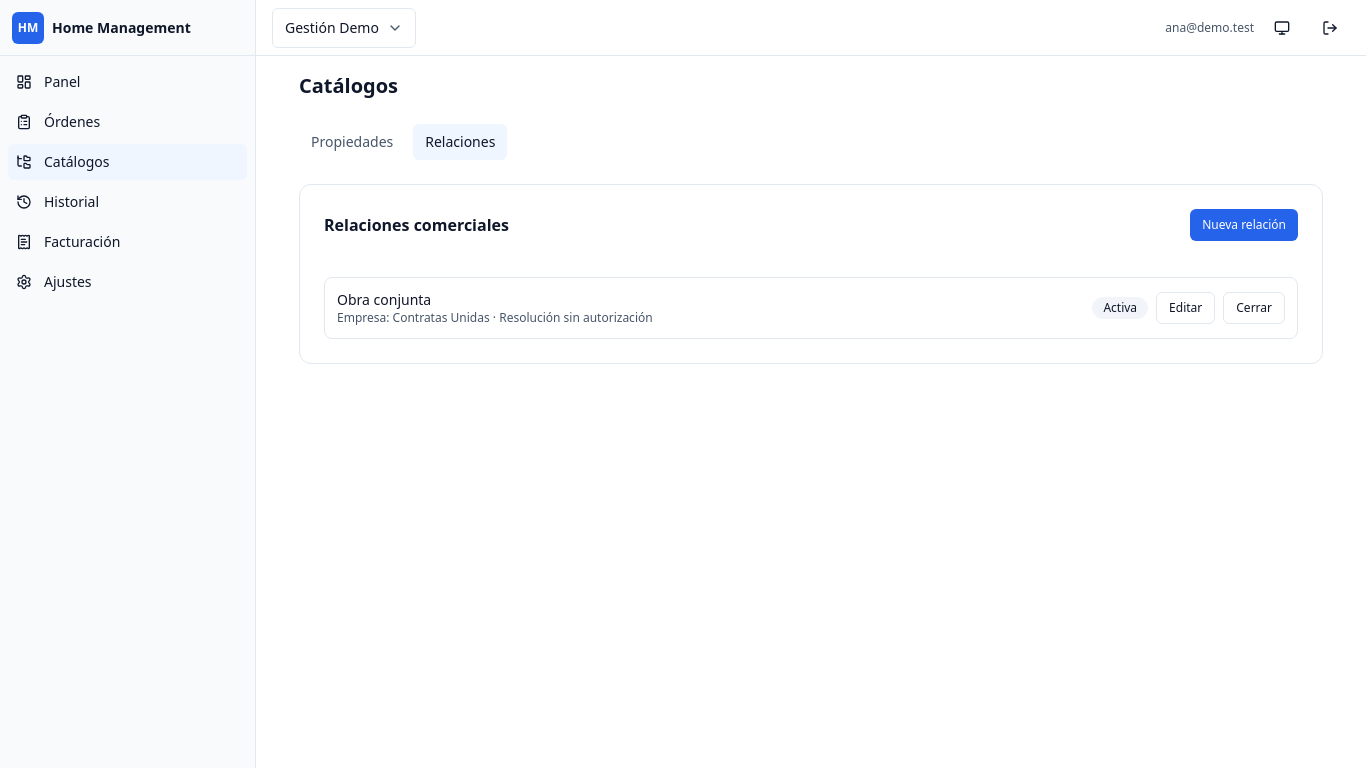
Test: commercial relations (spec F3 §2.1/§2.4, AC-F3.1/AC-F3.9) › validates the manual company UUID and the emergency amount (AC-F3.9)
The image size is (1366, 768).
Click the button "Nueva relación" at (1244, 225), box [1190, 209, 1298, 241]
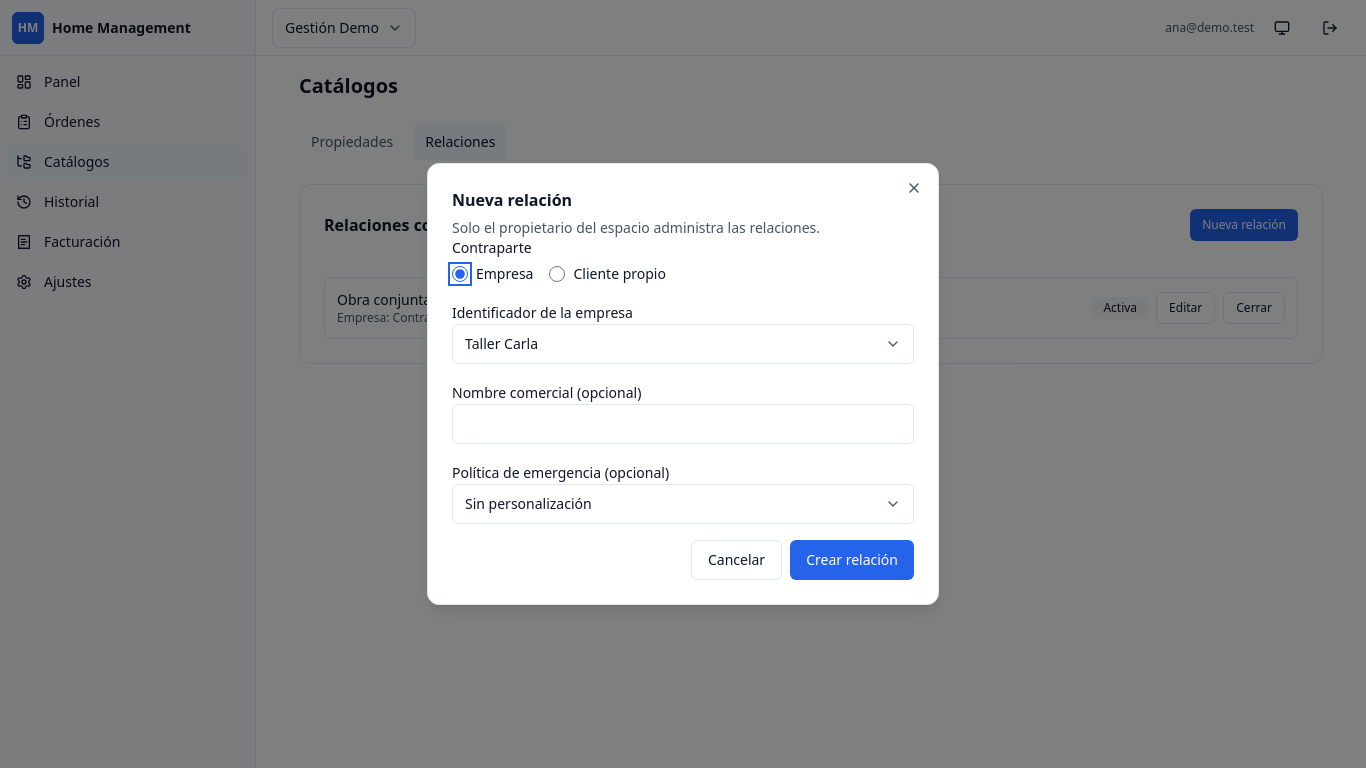
Note: «Elegir otro espacio propio…» reveals the manual UUID input.
Click the dropdown named "Identificador de la empresa" at (502, 344), box [452, 324, 914, 364]
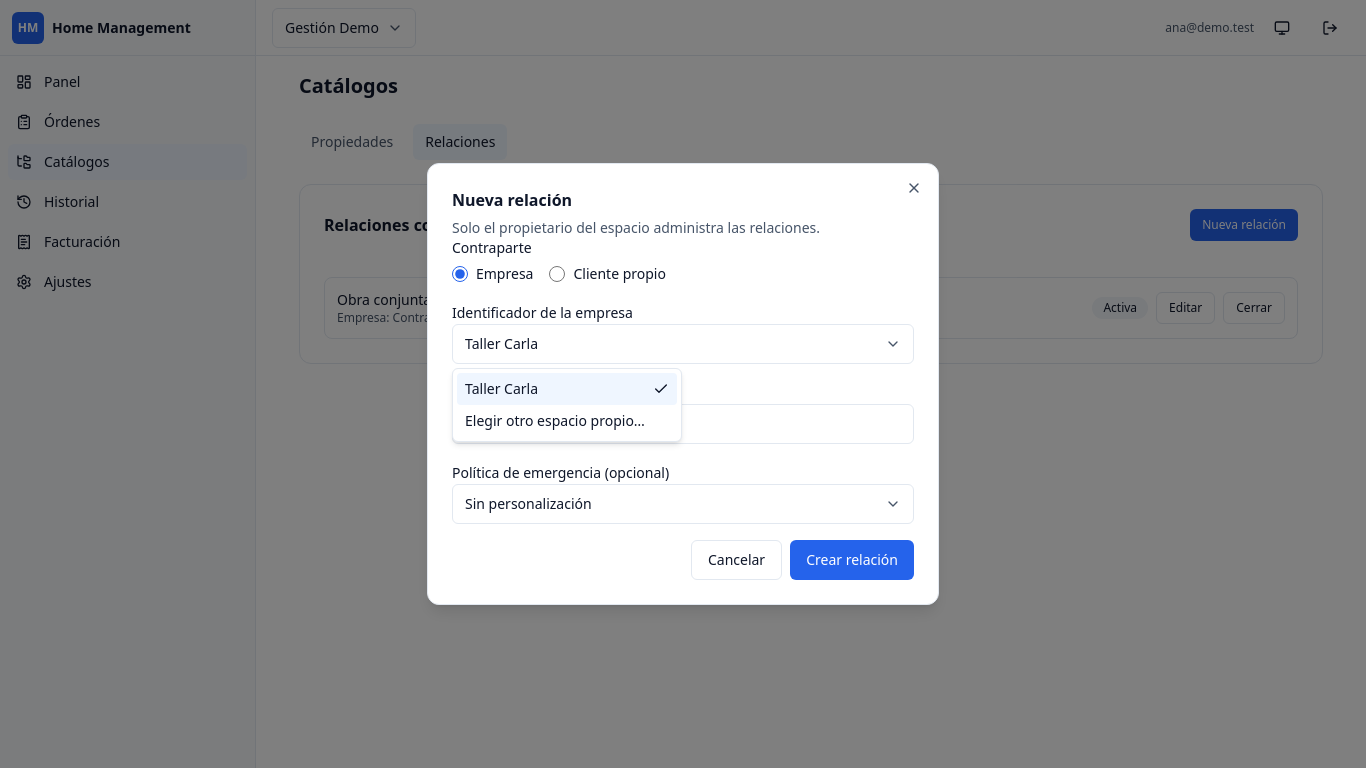
Click the option "Elegir otro espacio propio…" at (555, 420), box [465, 411, 645, 430]
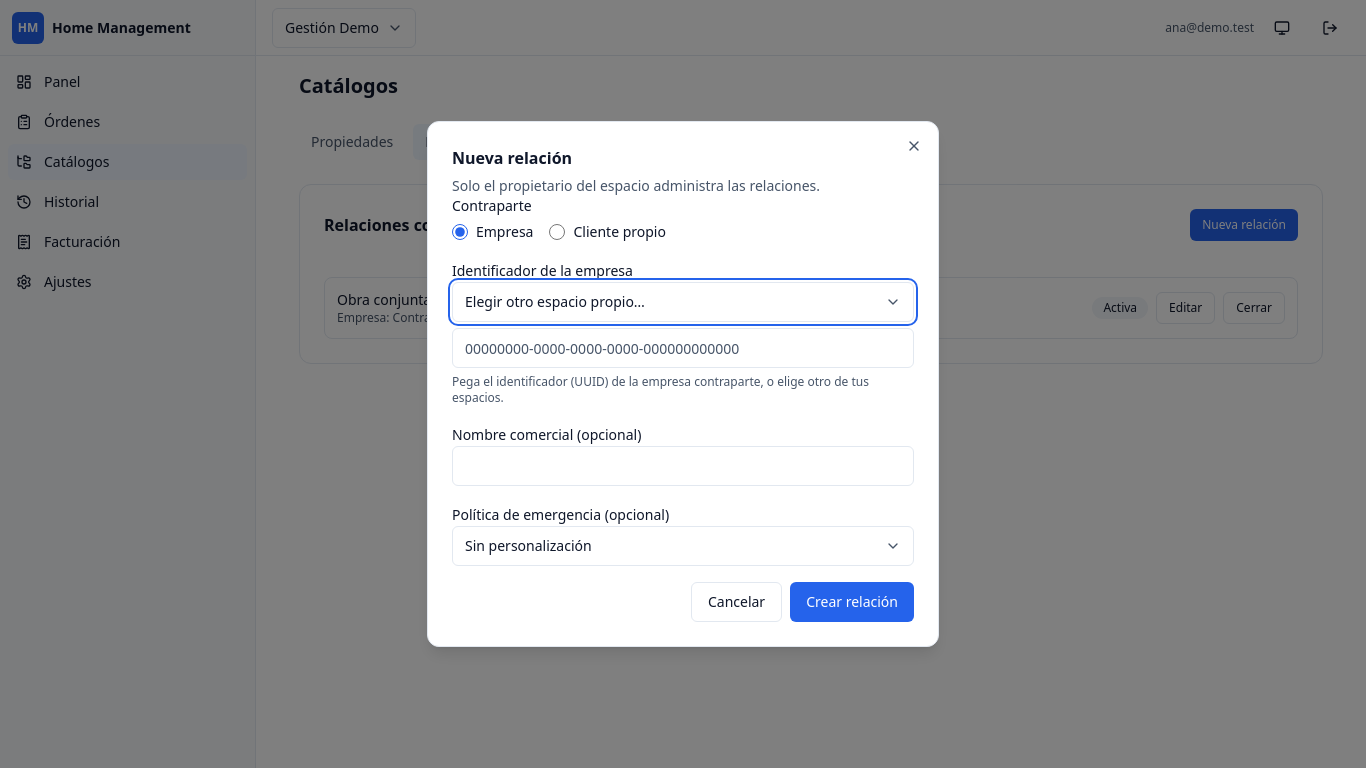
Type "no-uuid" into the field with placeholder "00000000-0000-0000-0000-000000000000" at (683, 348), box [452, 328, 914, 368]
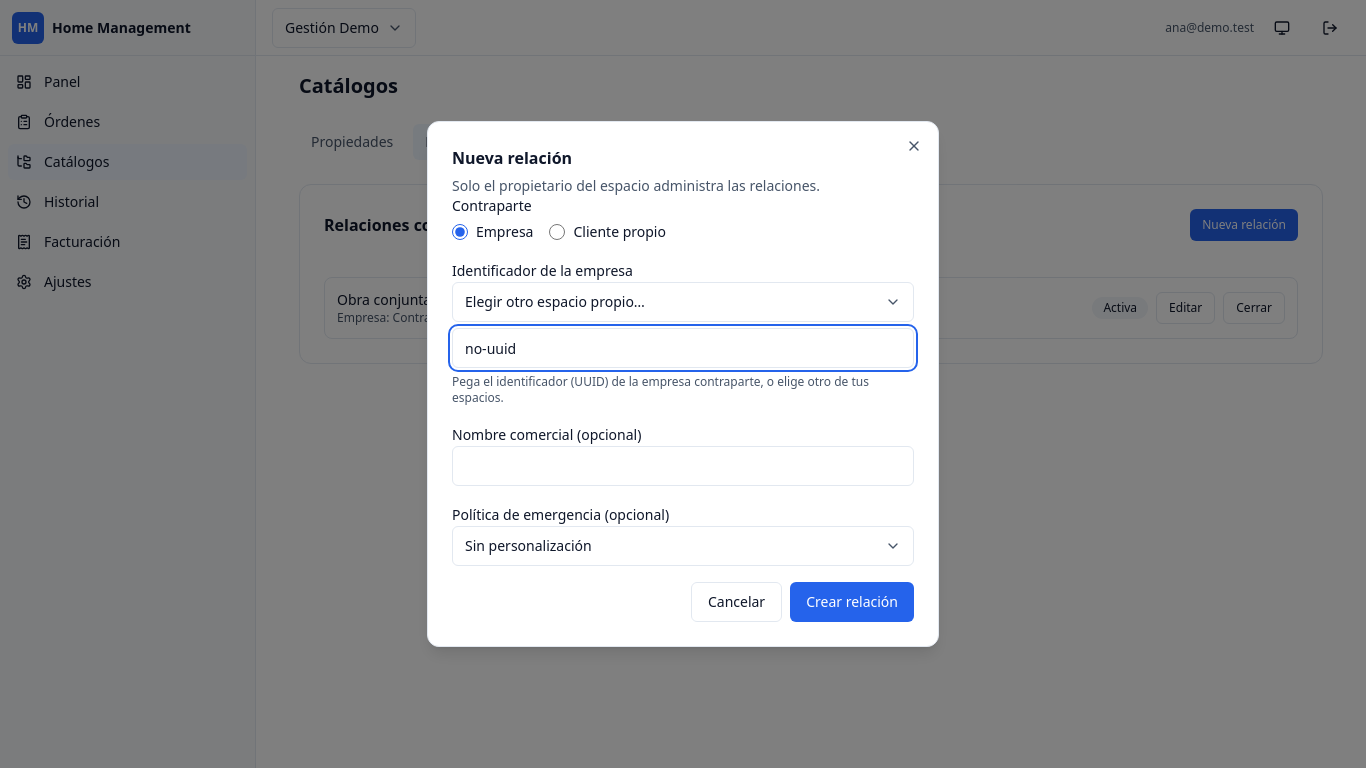
Click the button "Crear relación" at (852, 602), box [790, 582, 914, 622]
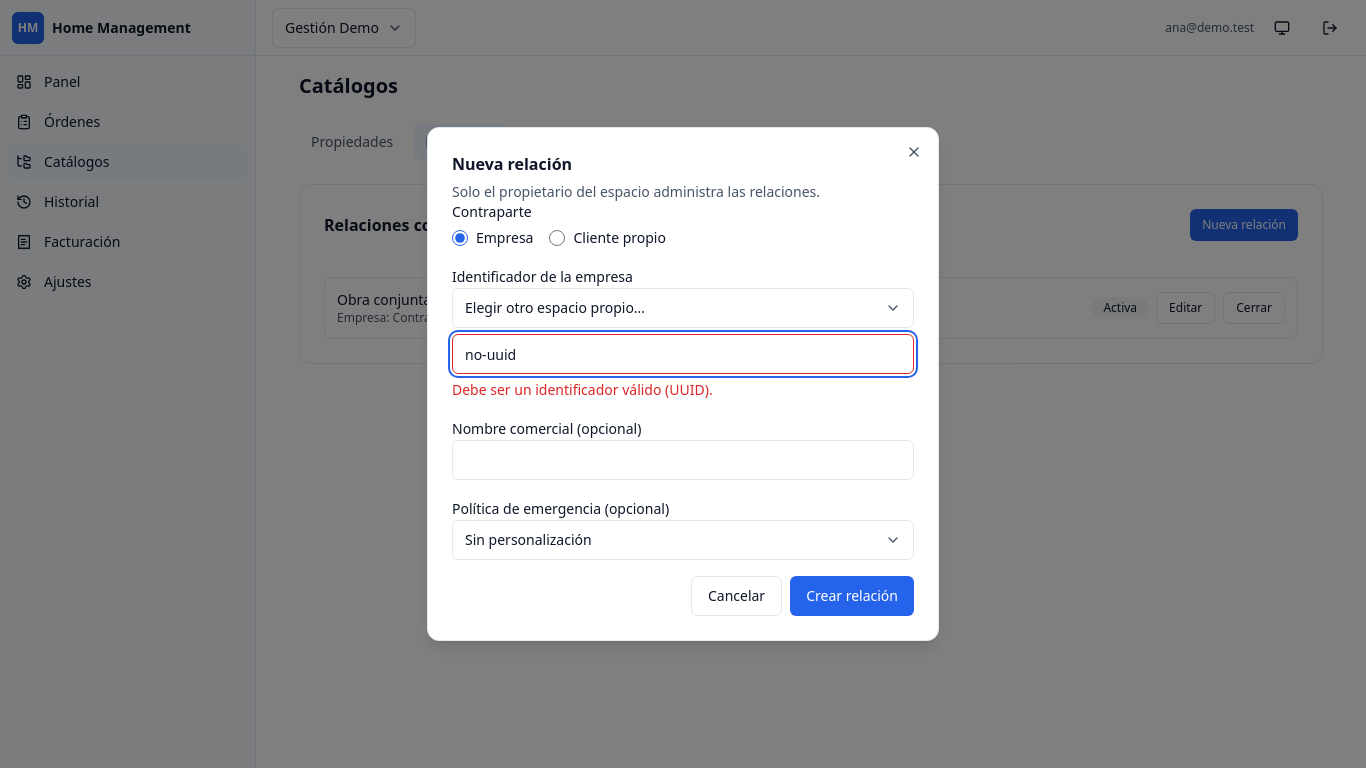
Check: the text "Debe ser un identificador válido (UUID)." is shown, box [452, 380, 713, 399]
